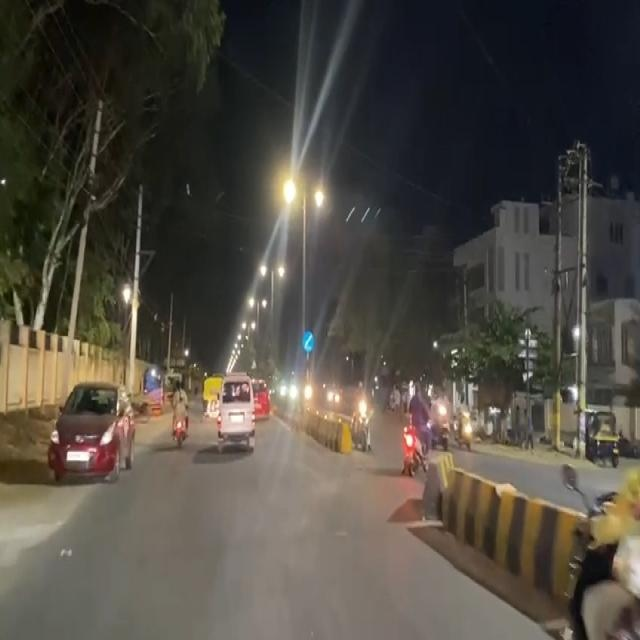bien_hieu_lenh: (300, 327, 316, 354)
